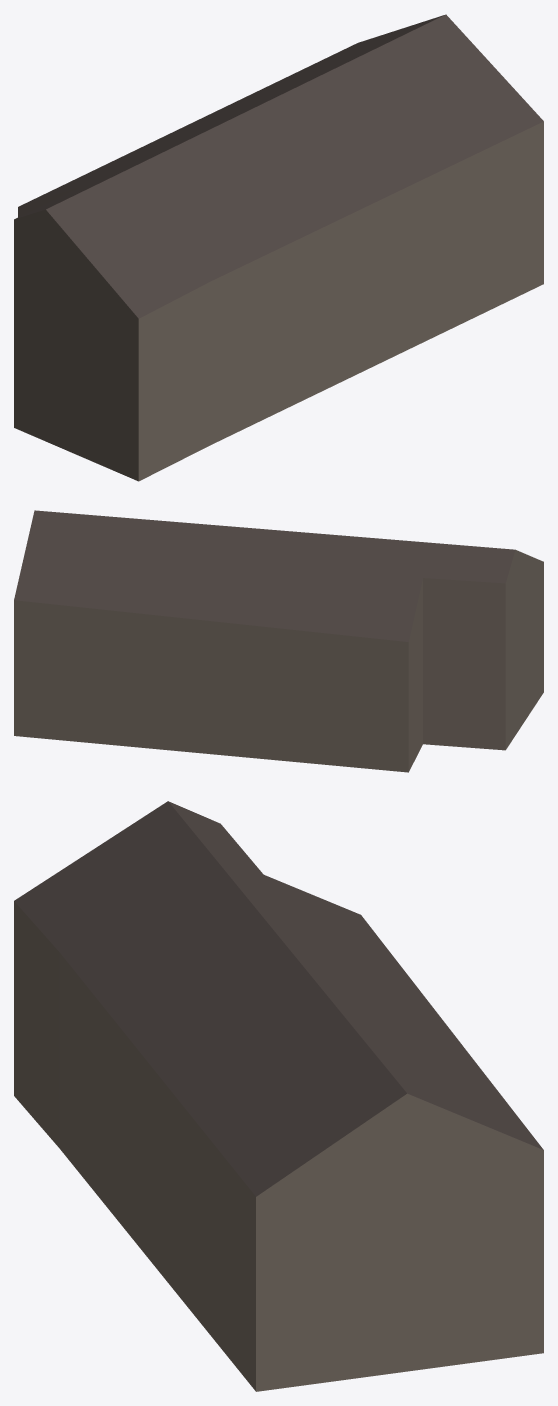
3 views of the same model, one above another, from view 1: azimuth 30°, elevation 25°; view 2: azimuth 150°, elevation 25°; view 3: azimuth 270°, elevation 25° (orthographic). The views are drawn at different scales.
Visible parts, largest first — view 1: HP-w1198842493; view 2: HP-w1198842493; view 3: HP-w1198842493.
Boxes of the visible parts, bbox=[...] form: HP-w1198842493: bbox=[14, 14, 543, 481]; HP-w1198842493: bbox=[14, 510, 543, 772]; HP-w1198842493: bbox=[14, 801, 543, 1391].
Size of the model in its own units: 21.02 by 8.55 by 14.78.
